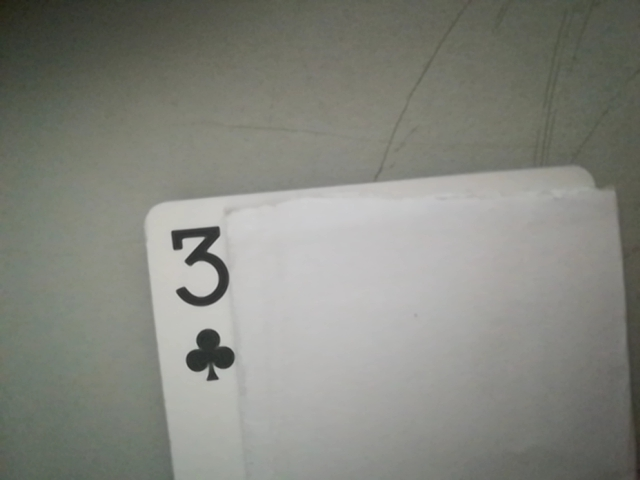mh 3: (157, 217, 245, 383)
